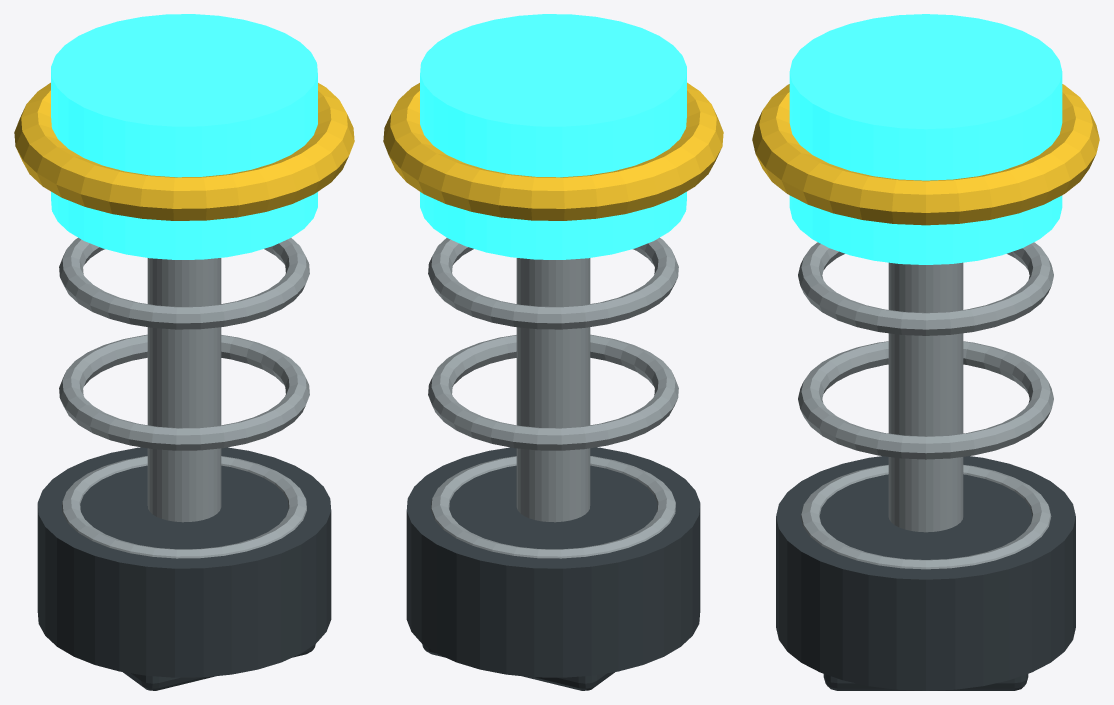
File: beacon_variant_c.glb
The picture shows the model from 3 angles, left to right: view 1: azimuth 30°, elevation 25°; view 2: azimuth 150°, elevation 25°; view 3: azimuth 270°, elevation 25°; orthographic projection.
Parts seen in each view (by area): view 1: Beacon base, Beacon lamp, Lamp guard, Beacon mast, Service ring.002, Service ring, Service ring.001, Mounting magnet; view 2: Beacon base, Beacon lamp, Lamp guard, Beacon mast, Service ring.002, Service ring, Service ring.001, Mounting magnet; view 3: Beacon base, Beacon lamp, Lamp guard, Beacon mast, Service ring.002, Service ring, Service ring.001, Mounting magnet.
Boxes of the visible parts, <box> form: Beacon base: <box>37,447,331,677</box>; Beacon lamp: <box>51,14,317,259</box>; Lamp guard: <box>14,82,354,220</box>; Beacon mast: <box>147,258,221,522</box>; Service ring.002: <box>59,334,309,450</box>; Service ring: <box>59,237,309,329</box>; Service ring.001: <box>62,456,306,558</box>; Mounting magnet: <box>123,644,315,690</box>; Beacon base: <box>406,447,700,677</box>; Beacon lamp: <box>420,14,686,259</box>; Lamp guard: <box>383,82,723,220</box>; Beacon mast: <box>516,258,590,522</box>; Service ring.002: <box>428,334,678,450</box>; Service ring: <box>428,237,678,329</box>; Service ring.001: <box>431,456,675,558</box>; Mounting magnet: <box>422,644,614,690</box>; Beacon base: <box>776,456,1075,690</box>; Beacon lamp: <box>789,14,1062,264</box>; Lamp guard: <box>752,84,1099,225</box>; Beacon mast: <box>888,262,963,532</box>; Service ring.002: <box>798,341,1053,459</box>; Service ring: <box>798,242,1053,335</box>; Service ring.001: <box>800,465,1051,569</box>; Mounting magnet: <box>823,674,1028,690</box>.
Size of what is drawn, in the model's own units: 0.51 by 0.94 by 0.51.
